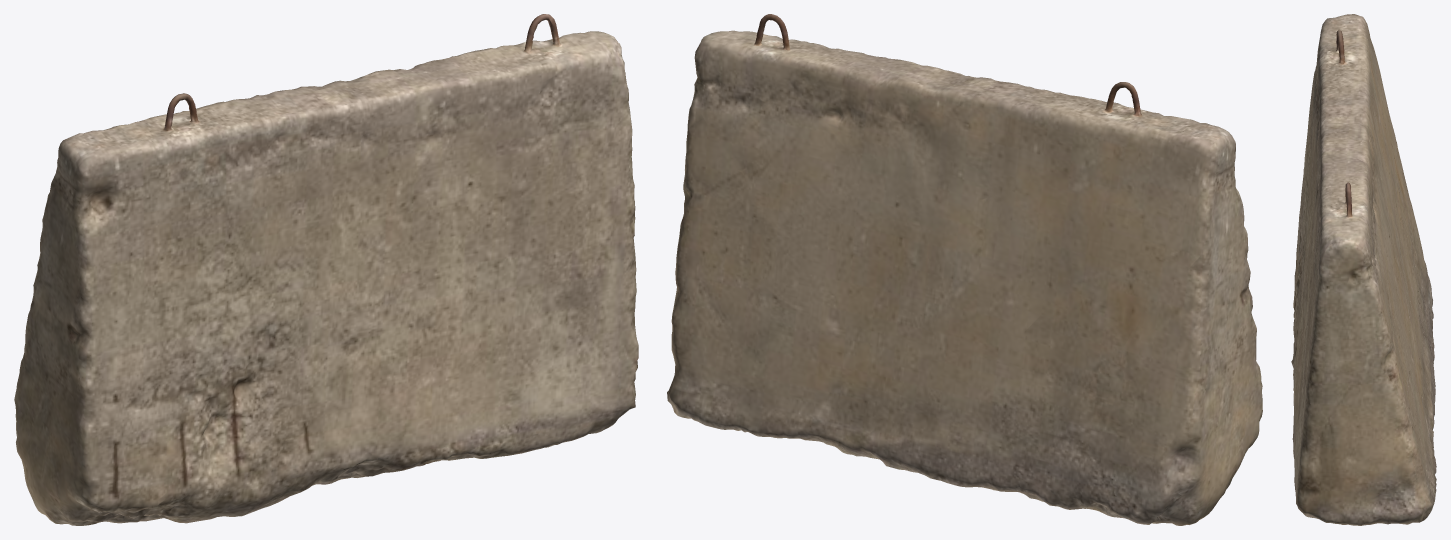
The model's file is road_barrier.glb.
3 renders of one model, left to right at view 1: azimuth 30°, elevation 25°; view 2: azimuth 150°, elevation 25°; view 3: azimuth 270°, elevation 25°, orthographic. The views are drawn at different scales.
Parts seen in each view (by area): view 1: concrete_road_barrier_02; view 2: concrete_road_barrier_02; view 3: concrete_road_barrier_02.
Part boxes in pixels (<box>): concrete_road_barrier_02: <box>14,14,638,525</box>; concrete_road_barrier_02: <box>667,14,1262,525</box>; concrete_road_barrier_02: <box>1291,14,1436,525</box>.
Size of the model in its own units: 1.57 by 1.11 by 0.4421.
1 material, 1 textured.
